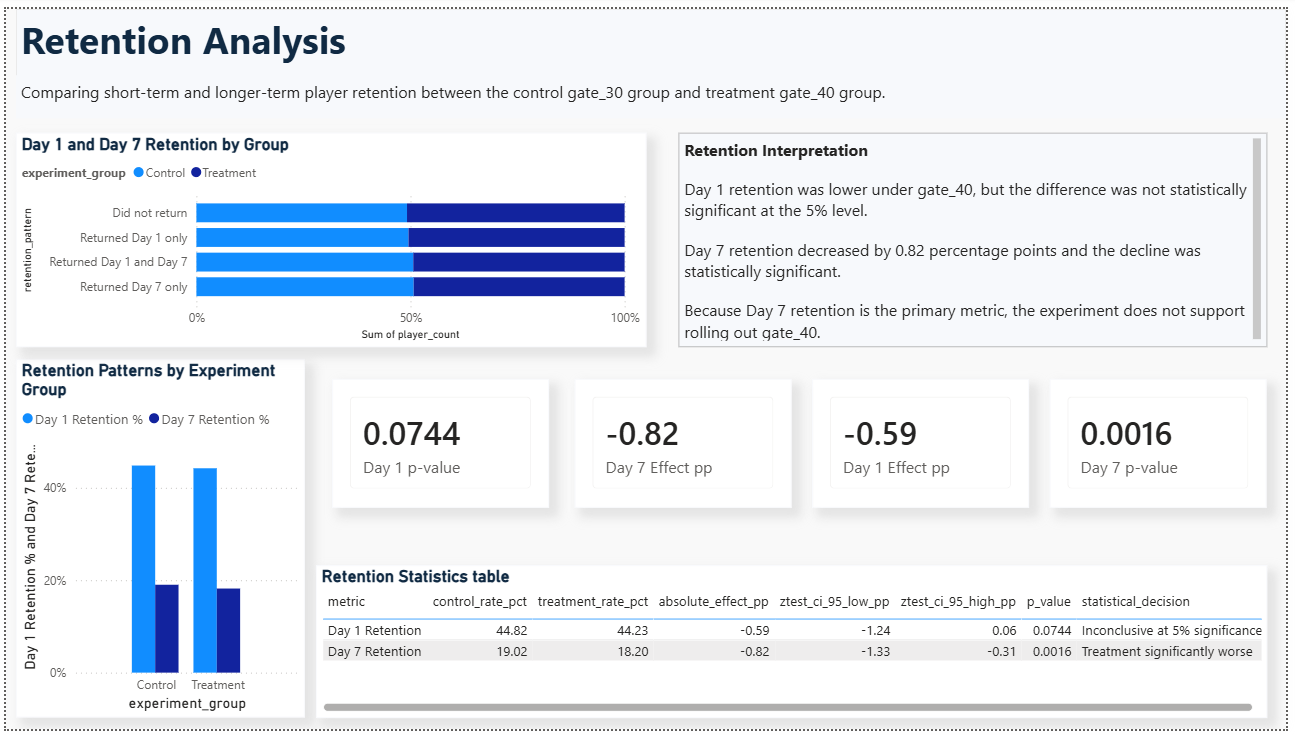

Layout of this report page (visuals, bound fields, positions):
{"tool":"powerbi","page":{"name":"Retention Analysis","canvas":[1280,720],"ordinal":2},"visuals":[{"type":"clusteredColumnChart","title":"Retention Patterns by Experiment Group","fields":{"Category":["Experiment Groups.experiment_group"],"Y":["Player Detail.Day 1 Retention %","Player Detail.Day 7 Retention %"]},"box":[10,350,288.6,358.6],"z":0},{"type":"hundredPercentStackedBarChart","title":"Day 1 and Day 7 Retention by Group","fields":{"Category":["Retention Patterns.retention_pattern"],"Series":["Retention Patterns.experiment_group"],"Y":["Sum(Retention Patterns.player_count)"]},"box":[10,124.3,630,214.3],"z":1000},{"type":"cardVisual","fields":{"Data":["Retention Statistics.Day 1 Effect pp"]},"box":[805.7,370,217.1,128.6],"z":2000},{"type":"cardVisual","fields":{"Data":["Retention Statistics.Day 7 Effect pp"]},"box":[568.6,370,217.1,128.6],"z":3000},{"type":"cardVisual","fields":{"Data":["Retention Statistics.Day 1 p-value"]},"box":[325.7,370,217.1,128.6],"z":4000},{"type":"cardVisual","fields":{"Data":["Retention Statistics.Day 7 p-value"]},"box":[1044.3,370,217.1,128.6],"z":5000},{"type":"tableEx","title":"Retention Statistics table","fields":{"Values":["Retention Statistics.metric","Retention Statistics.control_rate_pct","Retention Statistics.treatment_rate_pct","Retention Statistics.absolute_effect_pp","Retention Statistics.ztest_ci_95_low_pp","Retention Statistics.ztest_ci_95_high_pp","Retention Statistics.p_value","Retention Statistics.statistical_decision"]},"box":[310,555.7,951.4,152.9],"z":6000},{"type":"textbox","box":[672.9,124.3,588.6,214.3],"z":7000},{"type":"textbox","box":[10,0,1270,75.7],"z":8000},{"type":"textbox","box":[10,65.7,1270,42.9],"z":9000}]}

Visuals, with their boxes in screenshot pixels (x1, y1, x2, y2), scaled from the page's 1280x720 canvas onto the 1295x735 screenshot:
"Retention Patterns by Experiment Group" clusteredColumnChart: (10, 357, 302, 723)
"Day 1 and Day 7 Retention by Group" hundredPercentStackedBarChart: (10, 127, 648, 346)
cardVisual - Retention Statistics.Day 1 Effect pp: (815, 378, 1035, 509)
cardVisual - Retention Statistics.Day 7 Effect pp: (575, 378, 795, 509)
cardVisual - Retention Statistics.Day 1 p-value: (330, 378, 549, 509)
cardVisual - Retention Statistics.Day 7 p-value: (1057, 378, 1276, 509)
"Retention Statistics table" tableEx: (314, 567, 1276, 723)
textbox: (681, 127, 1276, 346)
textbox: (10, 0, 1294, 77)
textbox: (10, 67, 1294, 111)
